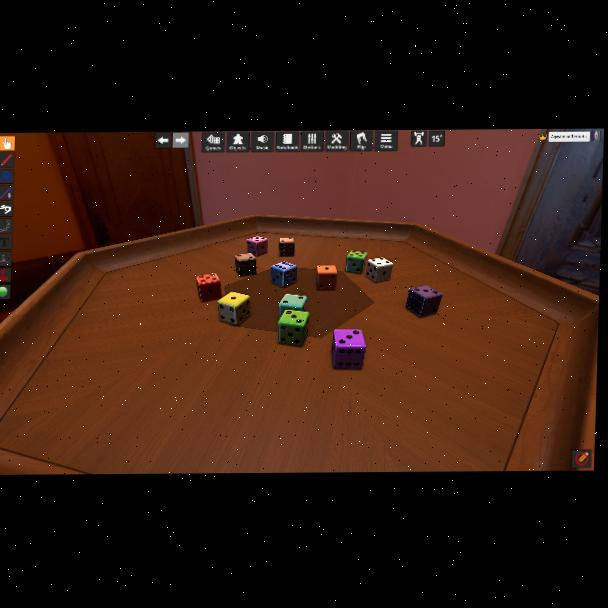d6: (332, 329, 367, 369), (216, 291, 250, 326), (406, 284, 442, 317), (277, 309, 309, 346), (277, 294, 306, 321), (270, 261, 297, 288), (195, 273, 220, 302), (366, 258, 392, 283), (234, 253, 256, 277), (345, 250, 367, 274), (315, 265, 336, 290), (246, 236, 269, 258), (279, 238, 294, 258)
